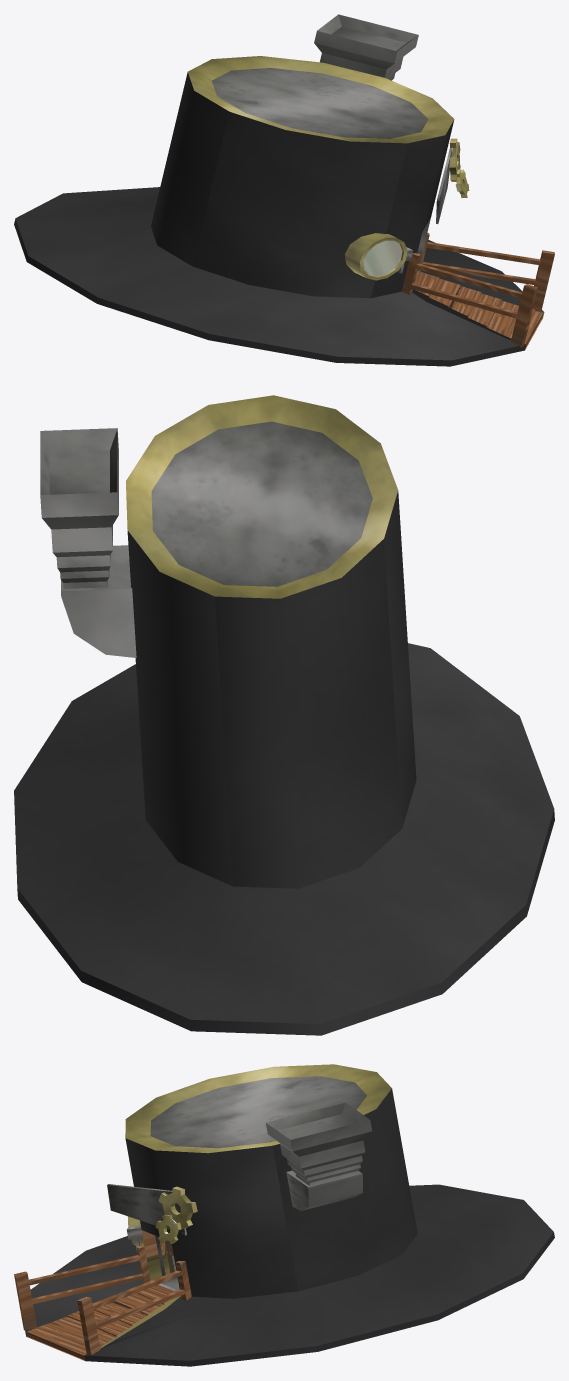
File: Hat Shoppe.FBX
3 views of the same model, one above another, from view 1: azimuth 30°, elevation 25°; view 2: azimuth 150°, elevation 25°; view 3: azimuth 270°, elevation 25° (orthographic). The views are drawn at different scales.
Visible parts, largest first — view 1: Box002; view 2: Box002; view 3: Box002.
Boxes of the visible parts, x1,y1,x2,y2 form: Box002: (14, 14, 554, 366); Box002: (14, 395, 554, 1035); Box002: (14, 1064, 554, 1366).
Size of the model in its own units: 622 by 366 by 842.
1 material, 1 textured.
